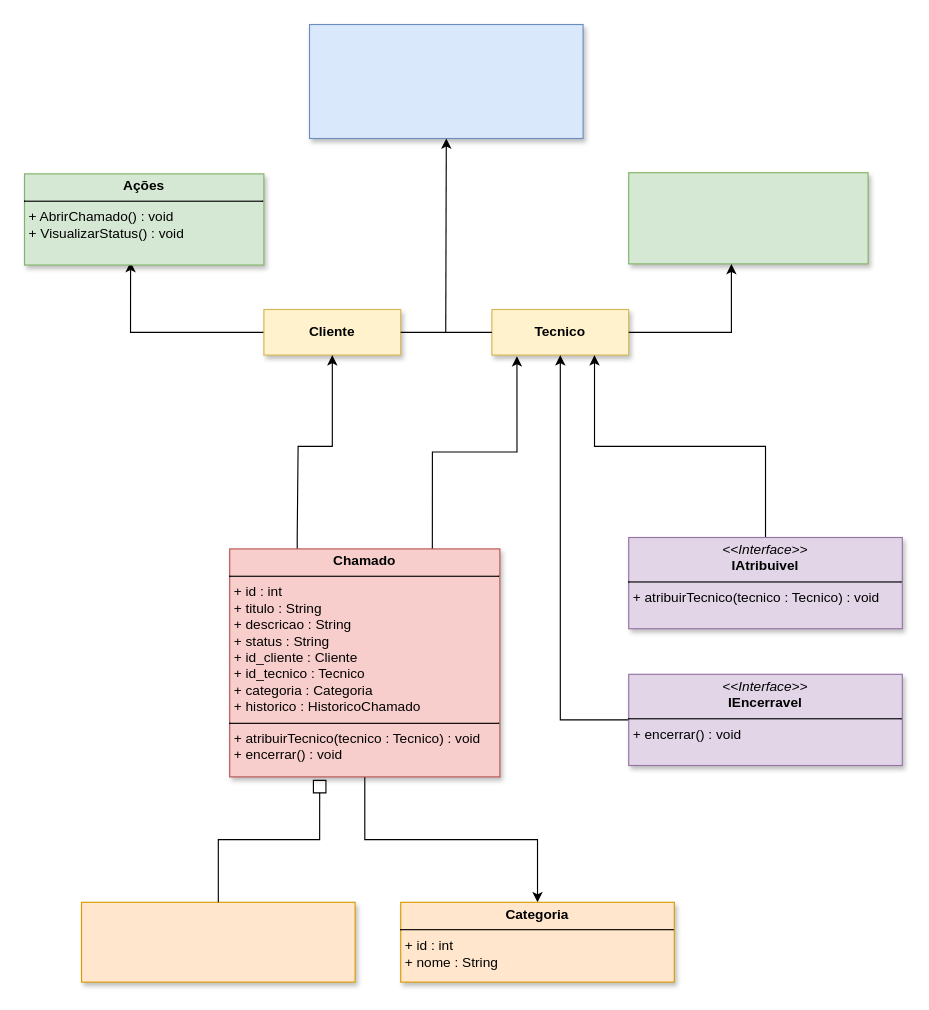
This 929x1010 diagram has some shape labels left out. The shapes that lost their labels are listed below. From the top down, each one's centre as x and y in pixels, then its label:
At point 447,82: "<<abstract>> Usuário + id : int + nome : string + email : string".
At point 749,219: "Ações + MudarStatus() : void # Matricula() : void".
At point 219,943: "HistoricoChamado + registros : List<String>".
